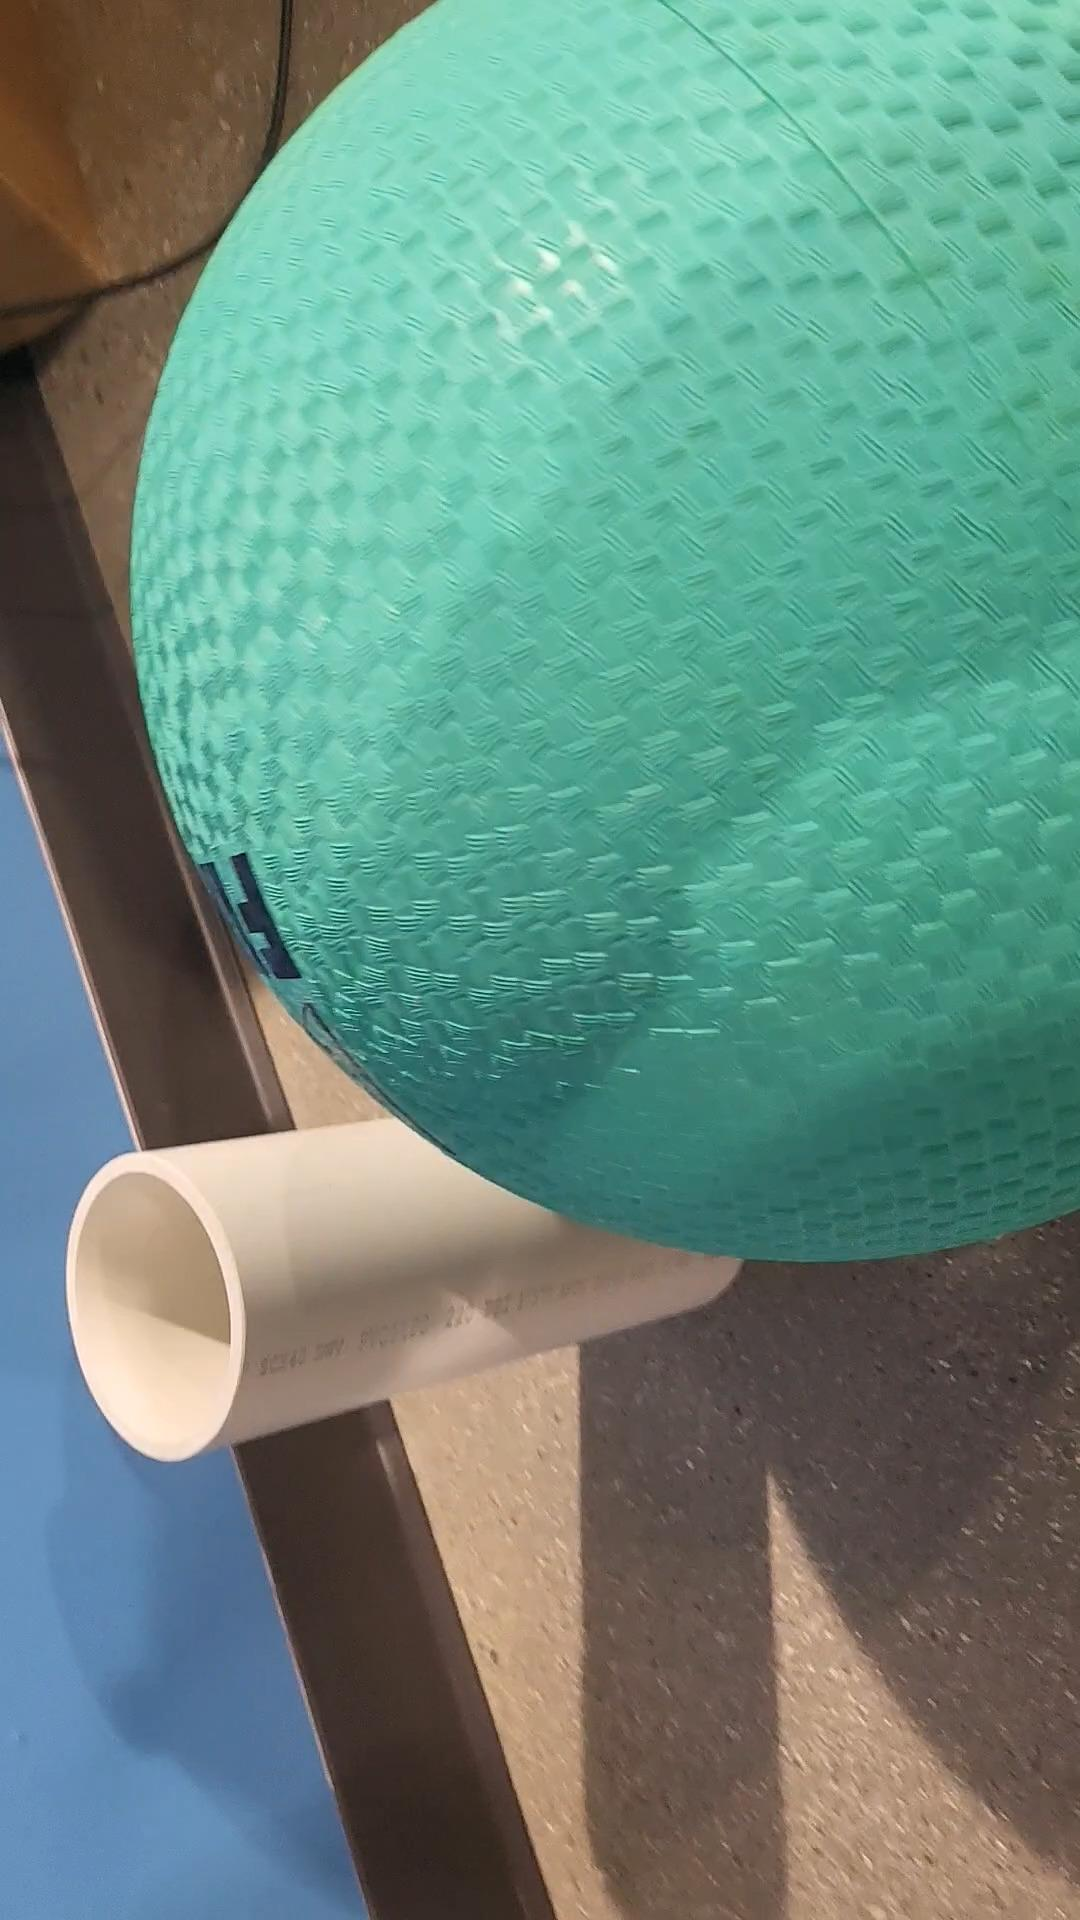algae: (131, 0, 1080, 1280)
coral: (59, 1077, 777, 1460)
